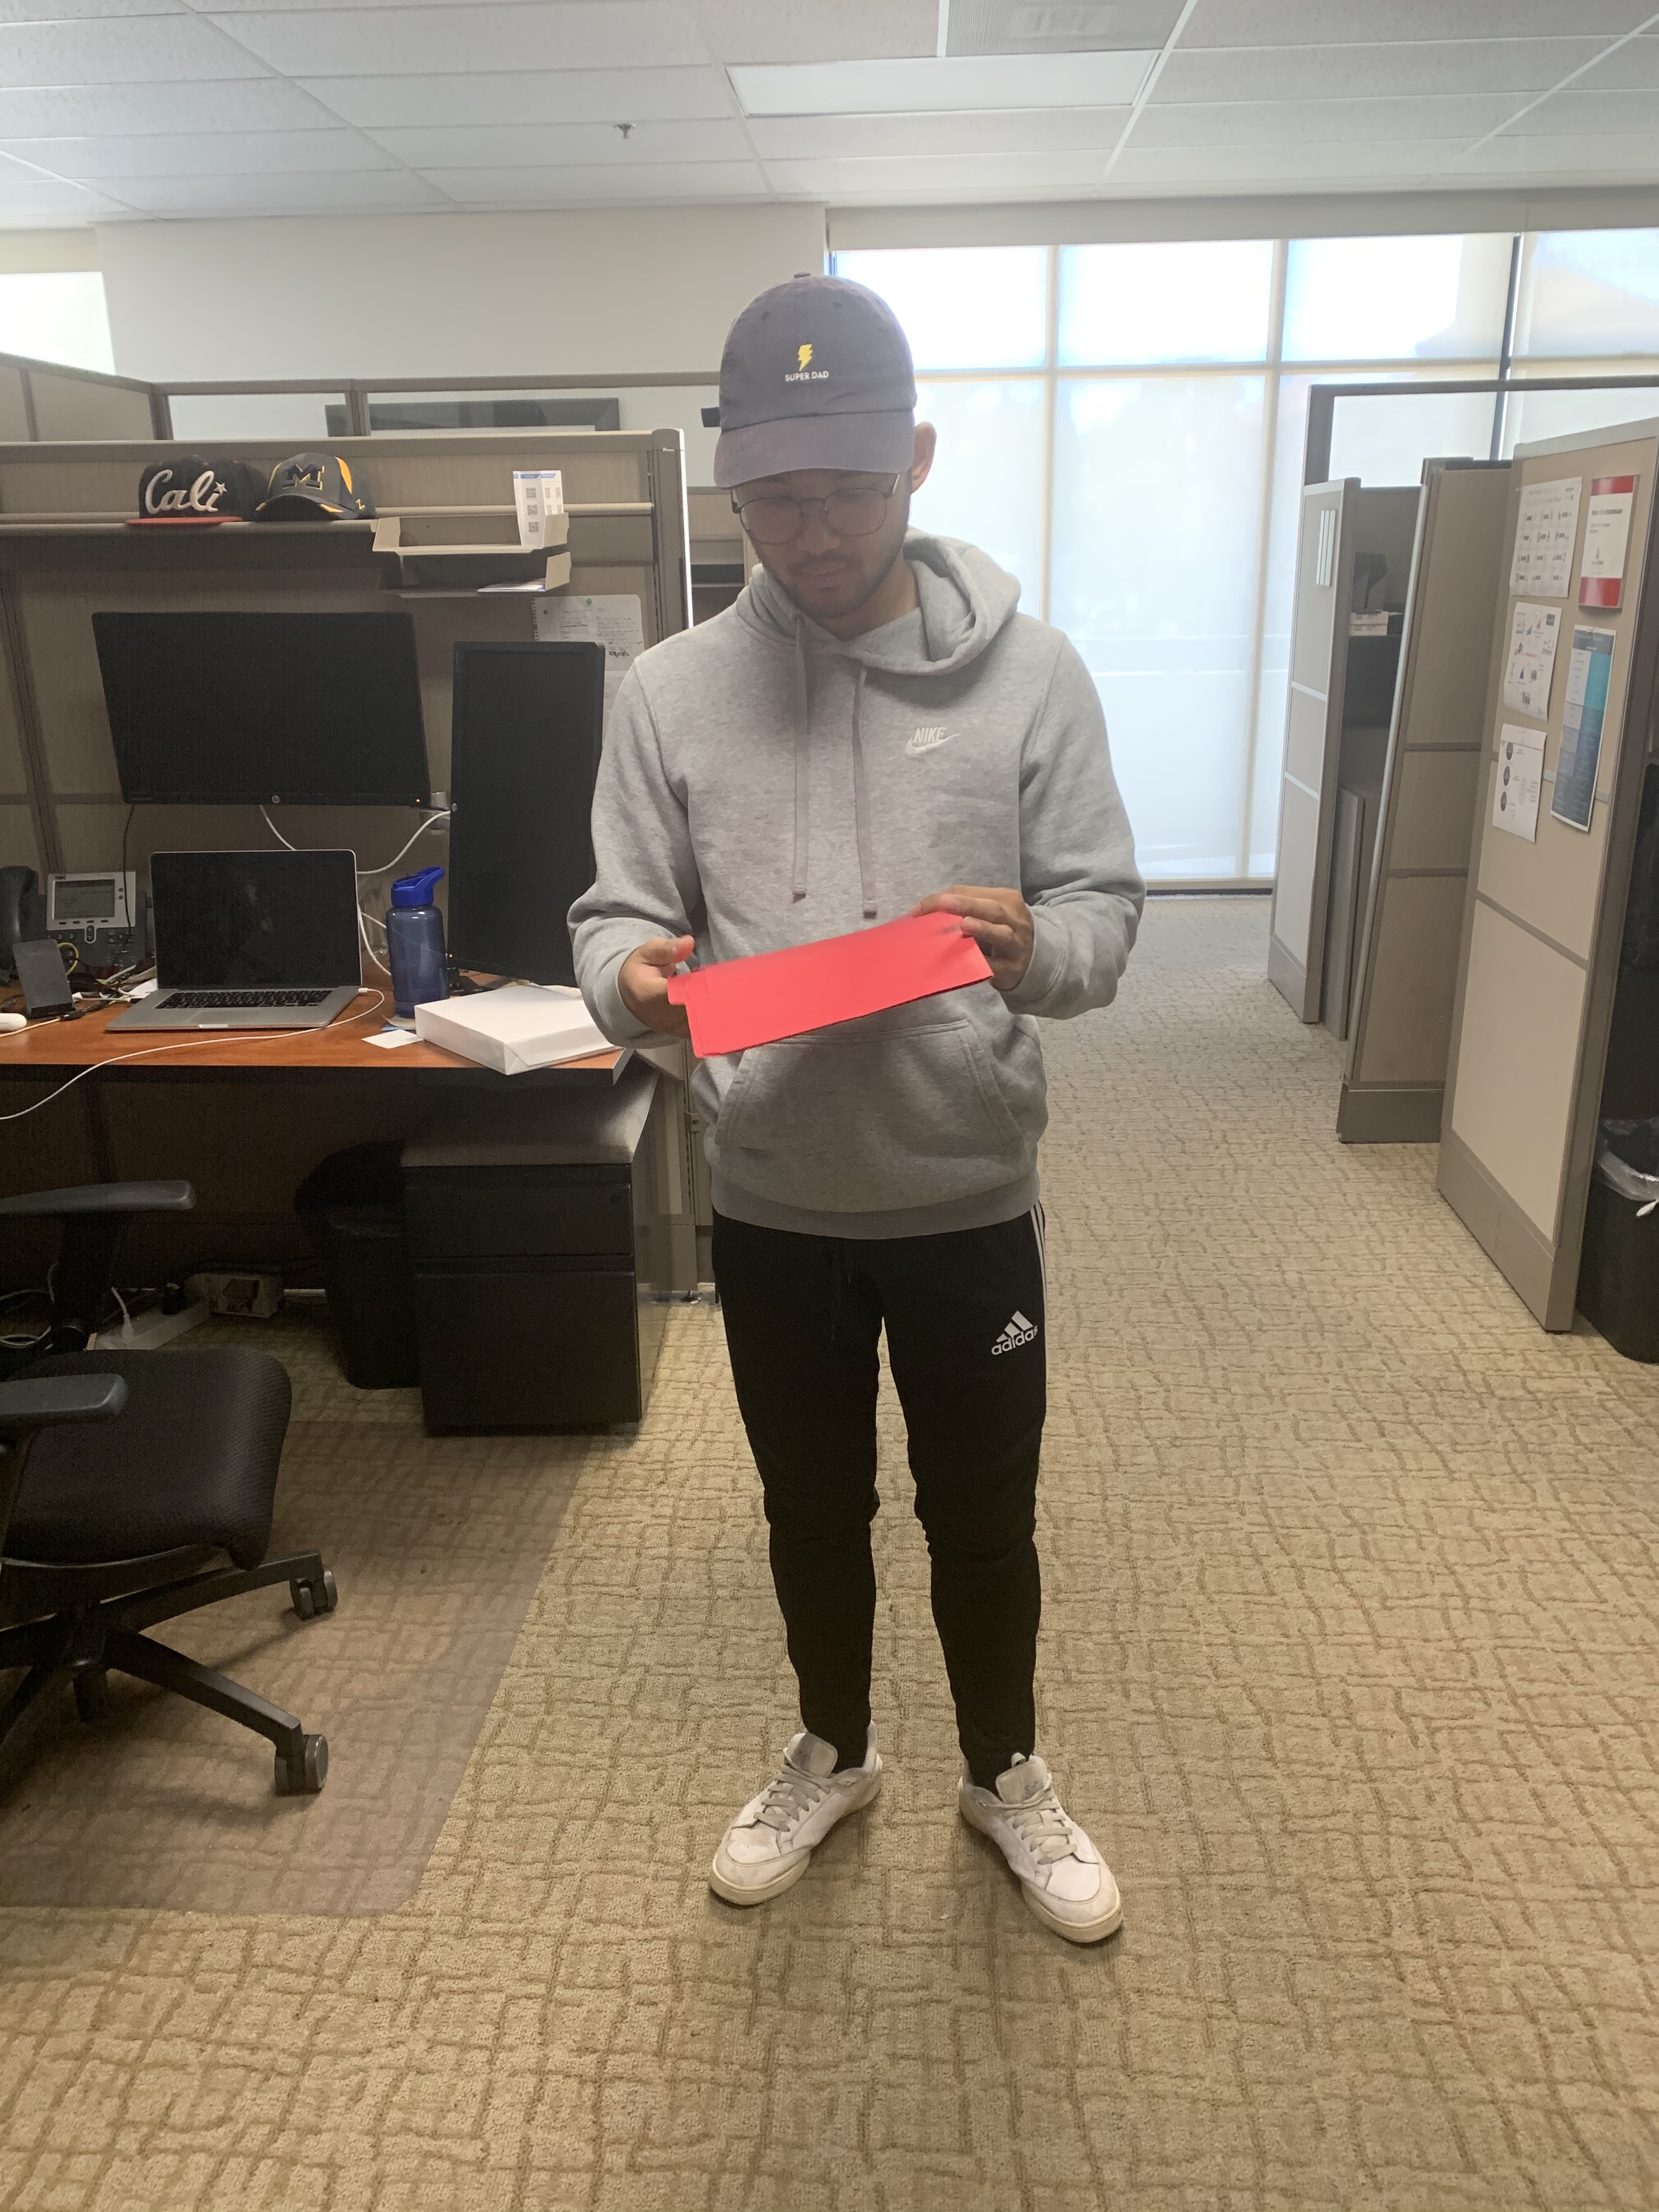red folder: (657, 887, 1021, 1082)
